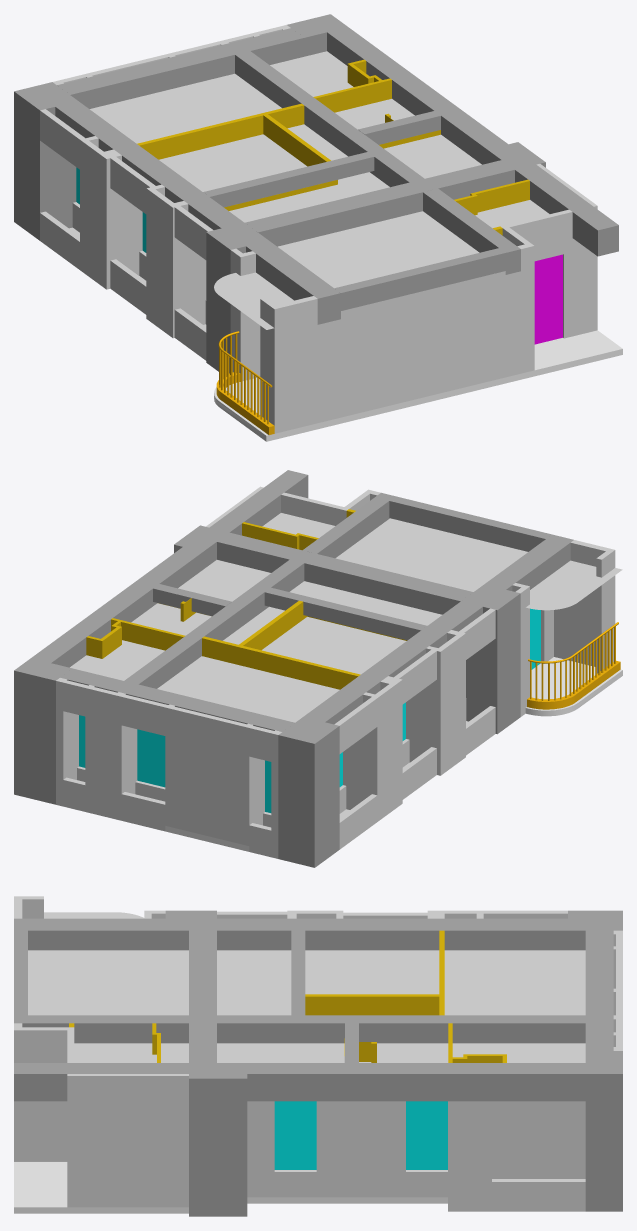
3 views of the same model, one above another, from view 1: azimuth 30°, elevation 25°; view 2: azimuth 150°, elevation 25°; view 3: azimuth 270°, elevation 25° (orthographic). The views are drawn at different scales.
Bounding box in the file's own units: 9.44 × 3.25 × 13.02.
